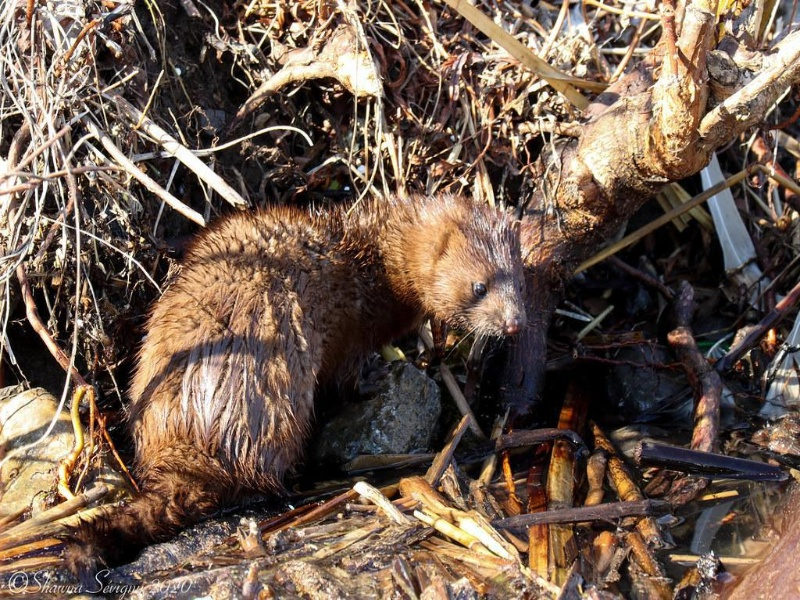minkish: (55, 191, 534, 581)
